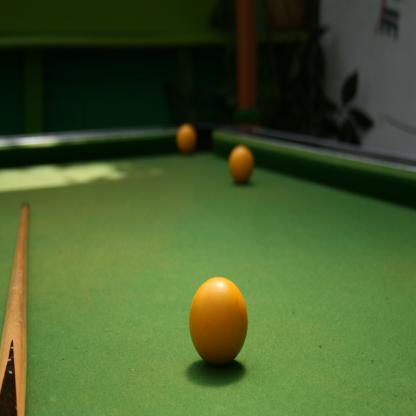Ball: (189, 276, 248, 368), (228, 147, 253, 184), (178, 124, 196, 150)
